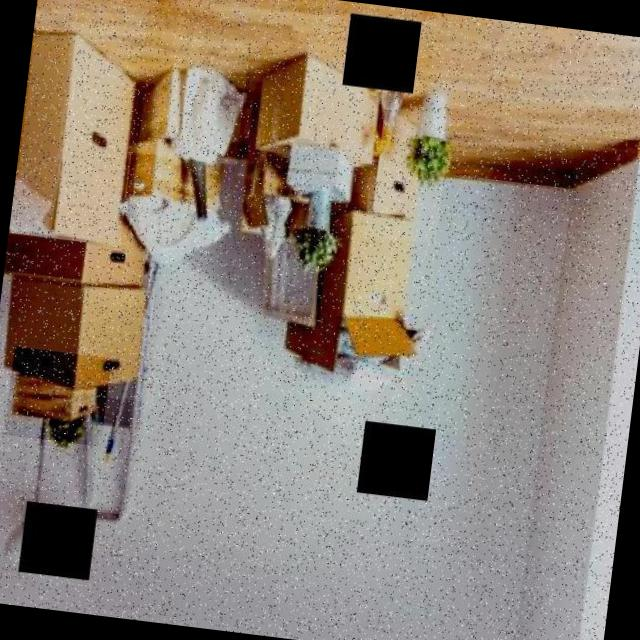box: (10, 0, 148, 245), (5, 91, 166, 288), (238, 8, 395, 194), (0, 255, 157, 401), (286, 210, 424, 373), (125, 46, 248, 164), (363, 106, 451, 244), (115, 140, 231, 238), (3, 346, 112, 446)
